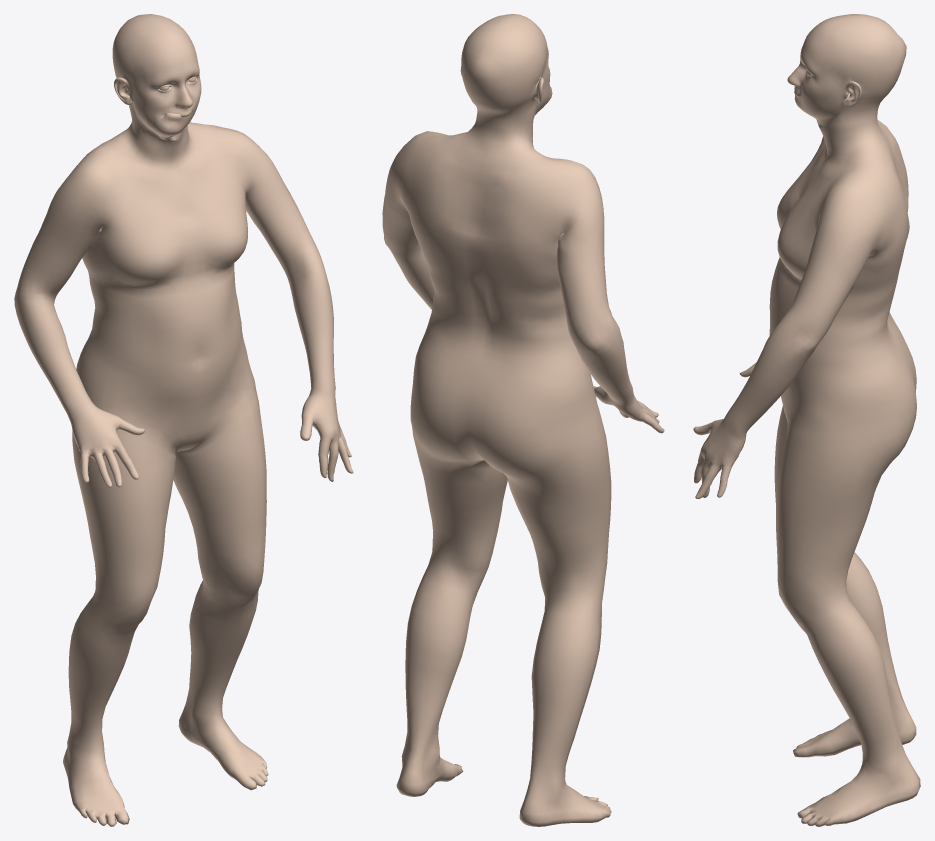
File: WORD-00858.glb
3 renders of one model, left to right at view 1: azimuth 30°, elevation 25°; view 2: azimuth 150°, elevation 25°; view 3: azimuth 270°, elevation 25°, orthographic. The views are drawn at different scales.
Bounding box in the file's own units: 0.6114 × 1.72 × 0.4605.
